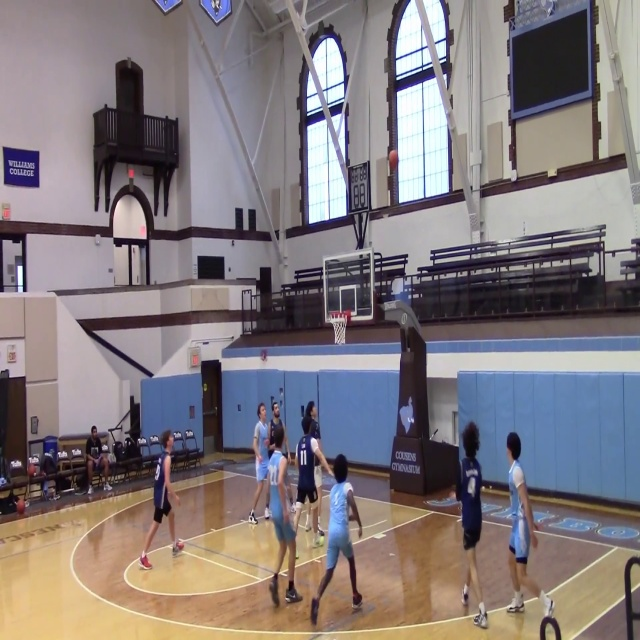Basketball: (388, 149, 398, 172), (16, 499, 25, 514), (27, 464, 36, 475), (294, 501, 303, 511), (176, 539, 184, 550)
